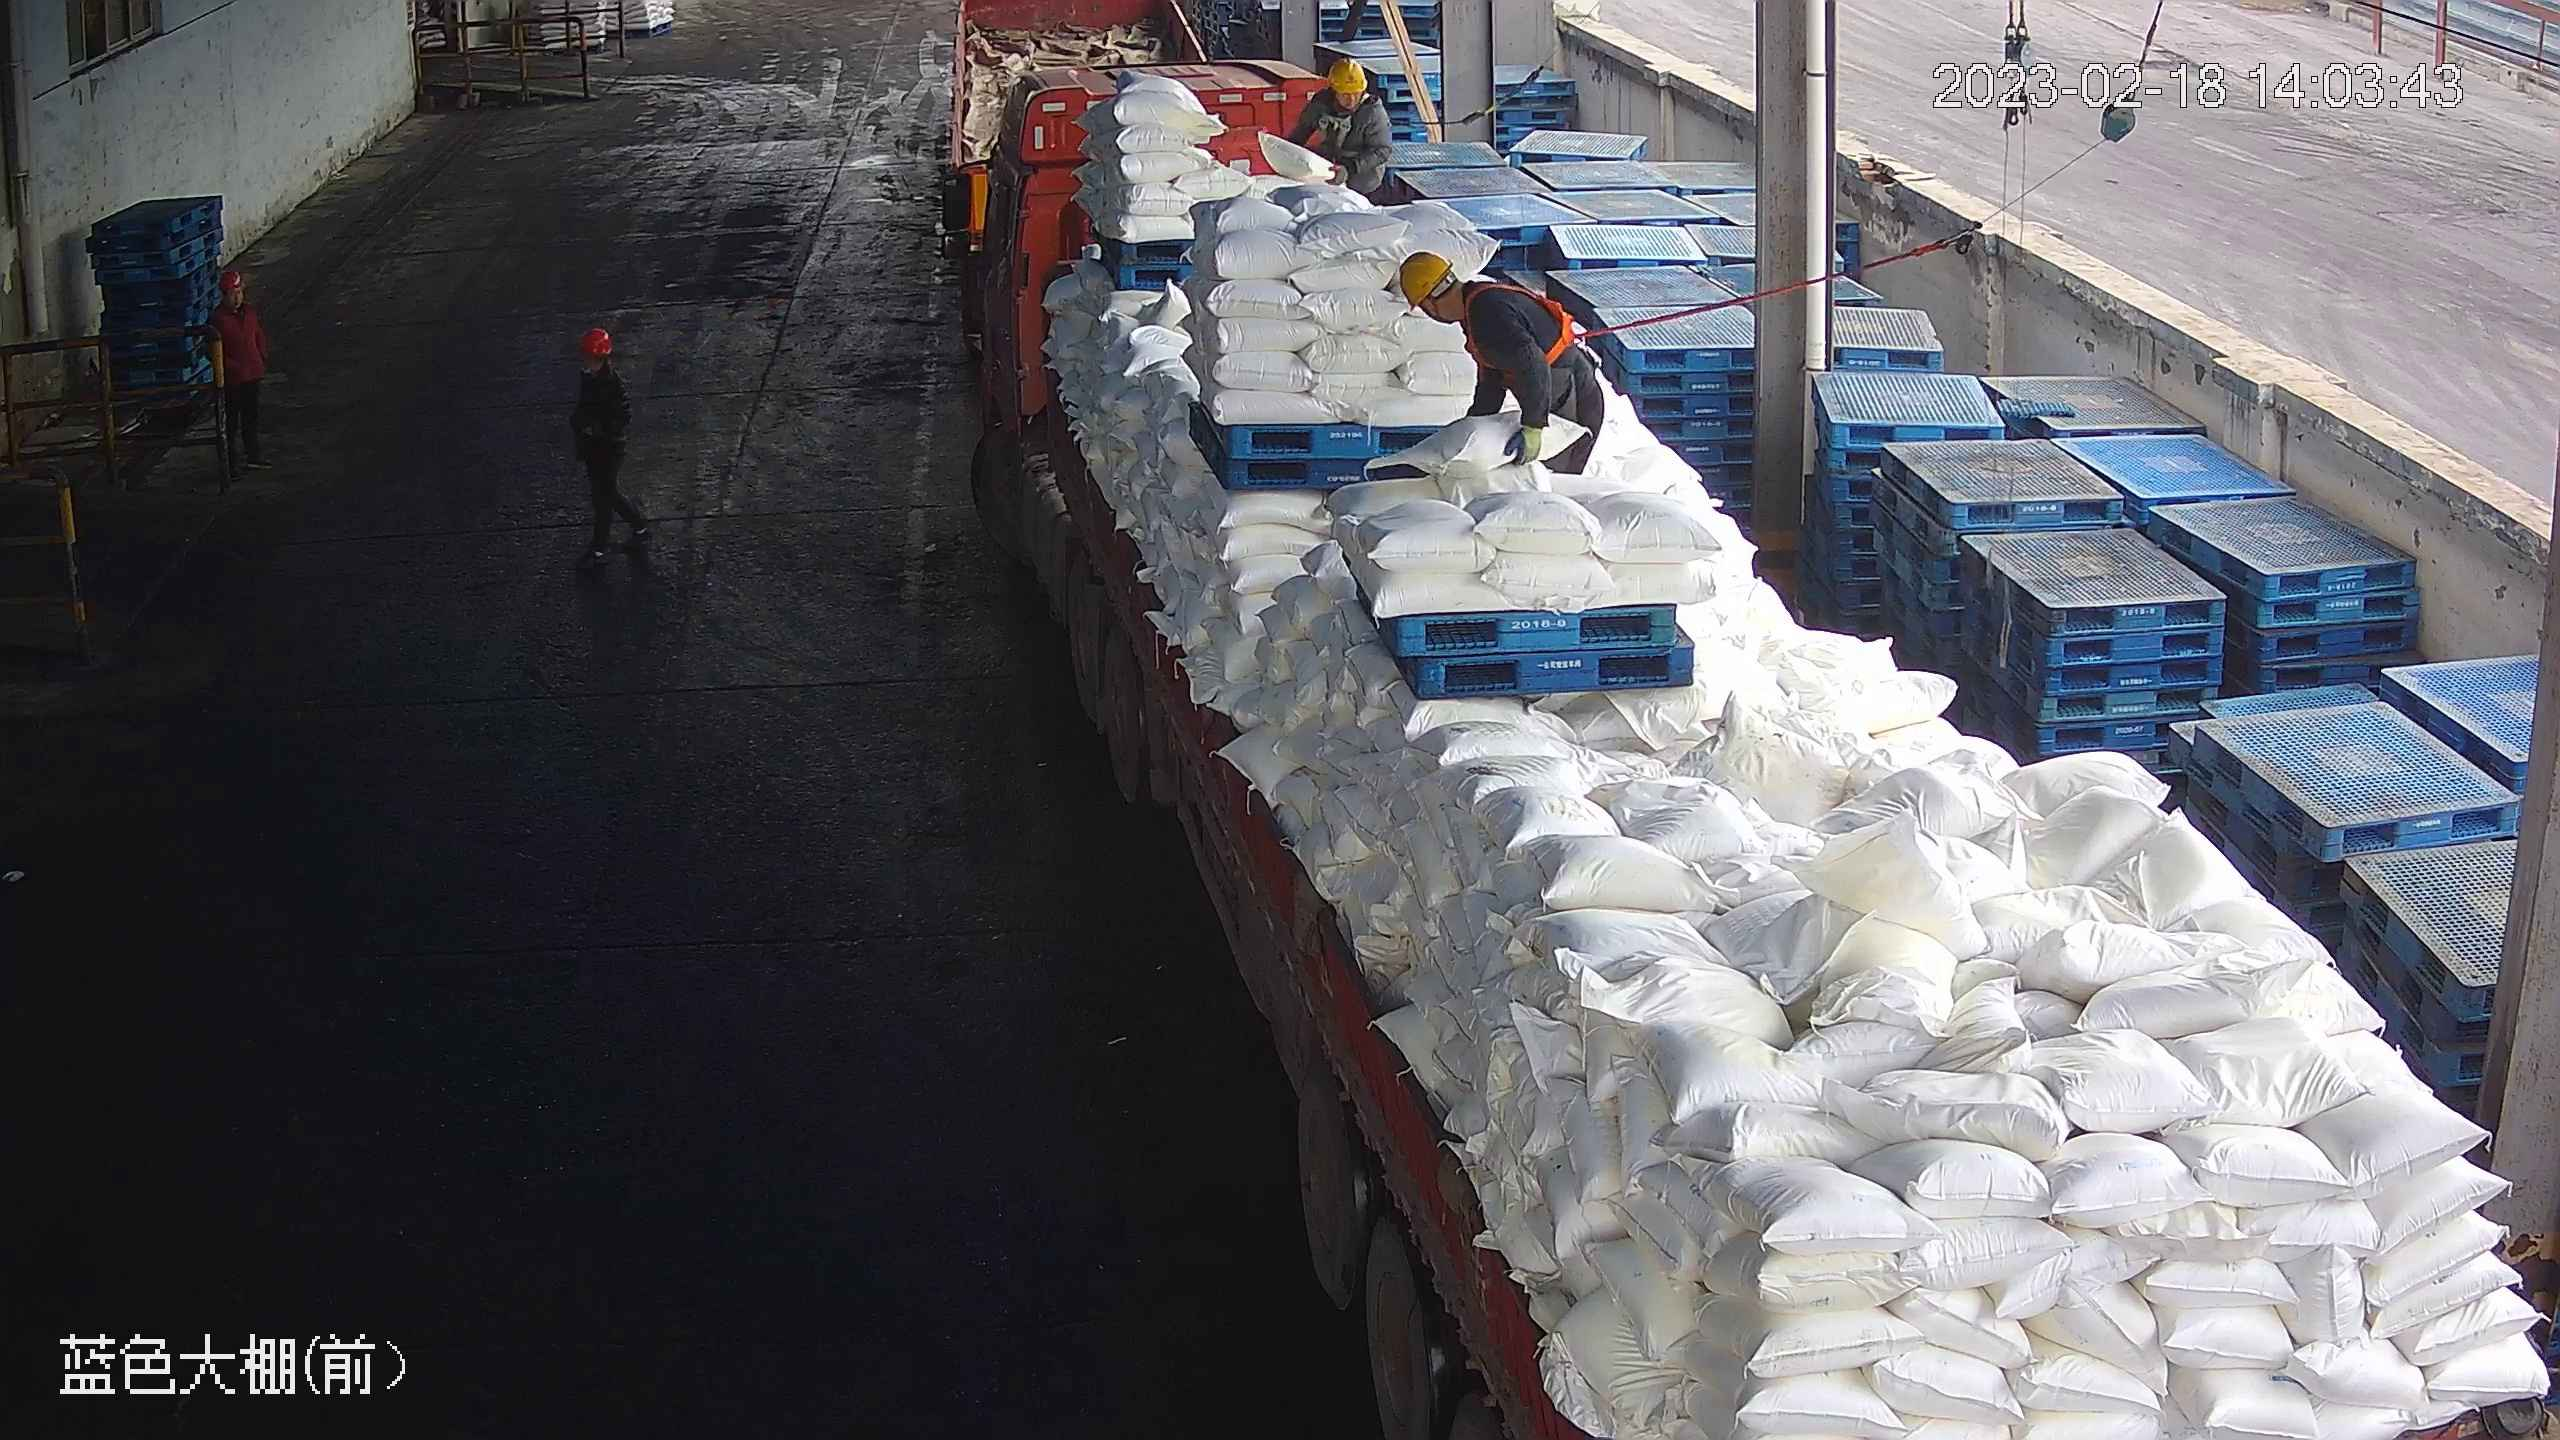belt: (1455, 272, 1590, 378)
head: (1394, 245, 1528, 344), (1303, 58, 1382, 127), (571, 328, 627, 399), (208, 263, 264, 325)
helmet: (1393, 248, 1452, 310), (1325, 56, 1368, 93), (578, 325, 613, 352), (219, 261, 249, 286)
people: (1392, 245, 1609, 485), (563, 324, 642, 570), (201, 261, 277, 488), (1293, 56, 1396, 199)
truck: (954, 39, 2552, 1440)
